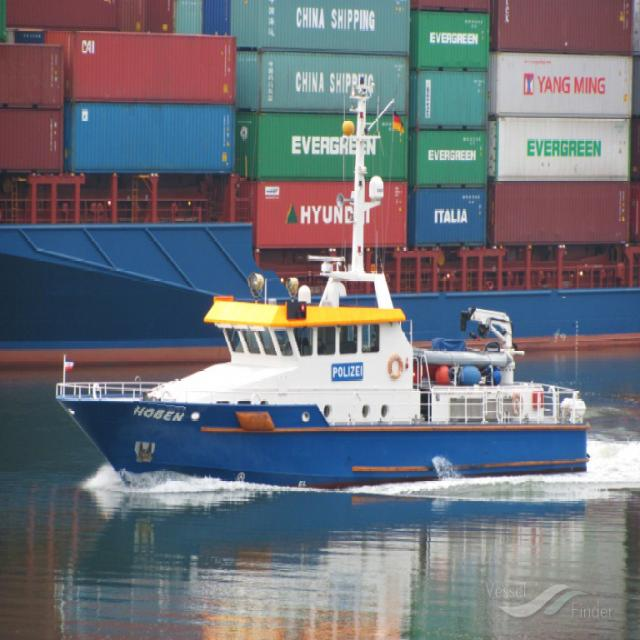OCR: (134, 402, 186, 422)
